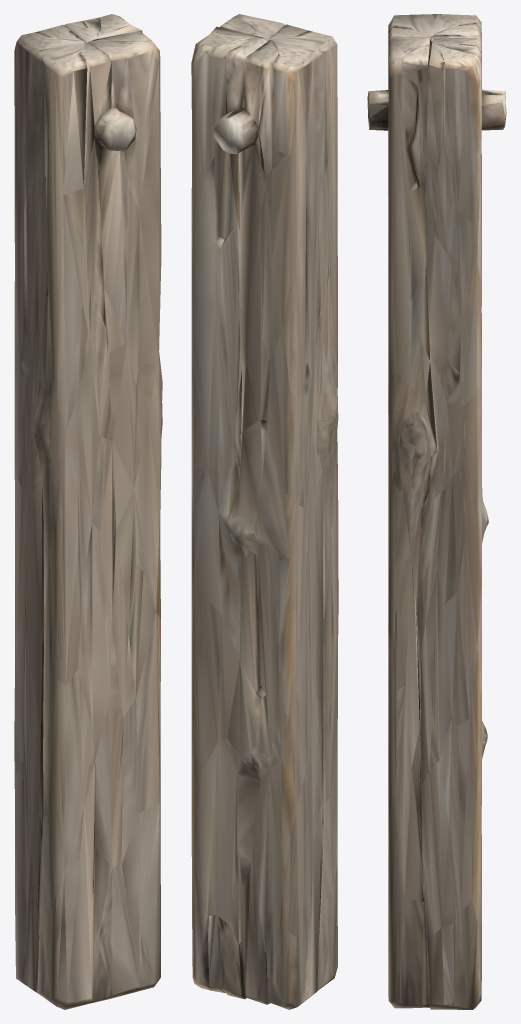
File: shade-post-v1.glb
3 renders of one model, left to right at view 1: azimuth 30°, elevation 25°; view 2: azimuth 150°, elevation 25°; view 3: azimuth 270°, elevation 25°, orthographic.
Parts seen in each view (by area): view 1: tripo_node_68e3f0cf-c464-4157-8441-277c21875c6c; view 2: tripo_node_68e3f0cf-c464-4157-8441-277c21875c6c; view 3: tripo_node_68e3f0cf-c464-4157-8441-277c21875c6c.
Part boxes in pixels (x1,y1,x2,y2): tripo_node_68e3f0cf-c464-4157-8441-277c21875c6c: [14, 14, 162, 1009]; tripo_node_68e3f0cf-c464-4157-8441-277c21875c6c: [191, 14, 338, 1009]; tripo_node_68e3f0cf-c464-4157-8441-277c21875c6c: [367, 14, 506, 1009].
Size of the model in its own units: 0.0844 by 0.6397 by 0.0851.
Materials: 1 (1 with a texture image).
